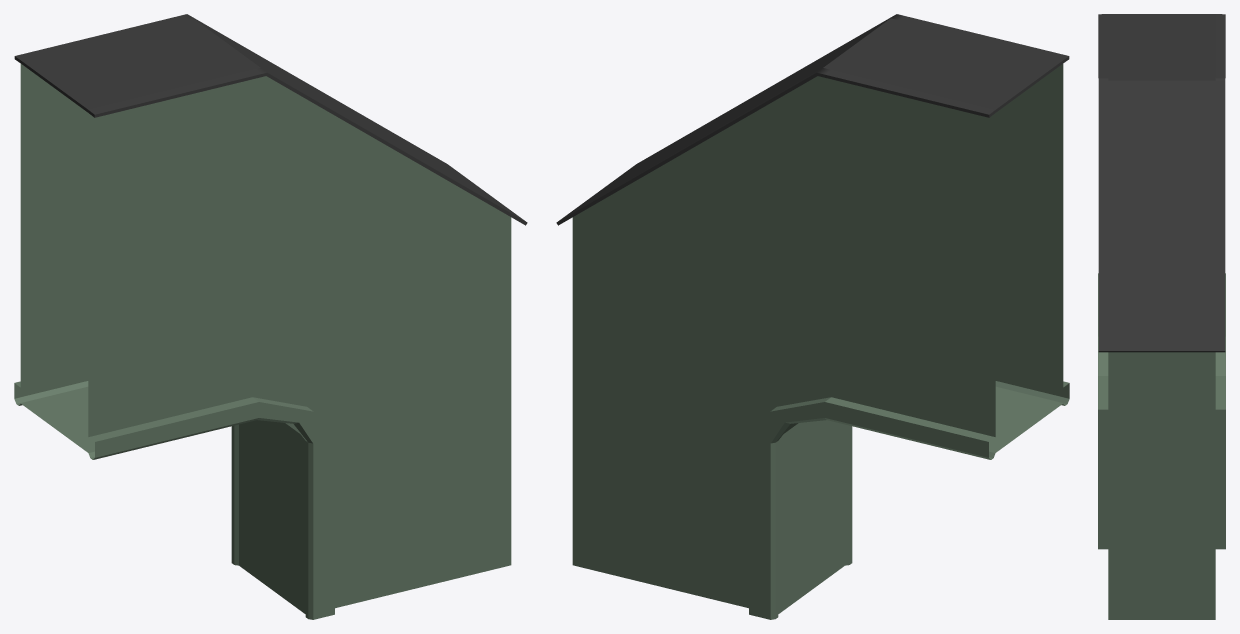
Rendered from Building_04.fbx.
The picture shows the model from 3 angles, left to right: view 1: azimuth 30°, elevation 25°; view 2: azimuth 150°, elevation 25°; view 3: azimuth 270°, elevation 25°; orthographic projection. The views are drawn at different scales.
Parts seen in each view (by area): view 1: Building_Shell3, polySurface84; view 2: Building_Shell3, polySurface84; view 3: polySurface84, Building_Shell3.
Boxes of the visible parts, bbox=[...] form: Building_Shell3: bbox=[14, 64, 511, 619]; polySurface84: bbox=[14, 14, 527, 225]; Building_Shell3: bbox=[572, 64, 1069, 619]; polySurface84: bbox=[556, 14, 1069, 225]; polySurface84: bbox=[1098, 14, 1225, 352]; Building_Shell3: bbox=[1098, 273, 1225, 619].
Bounding box in the file's own units: 7.3 × 9 × 2.36.
